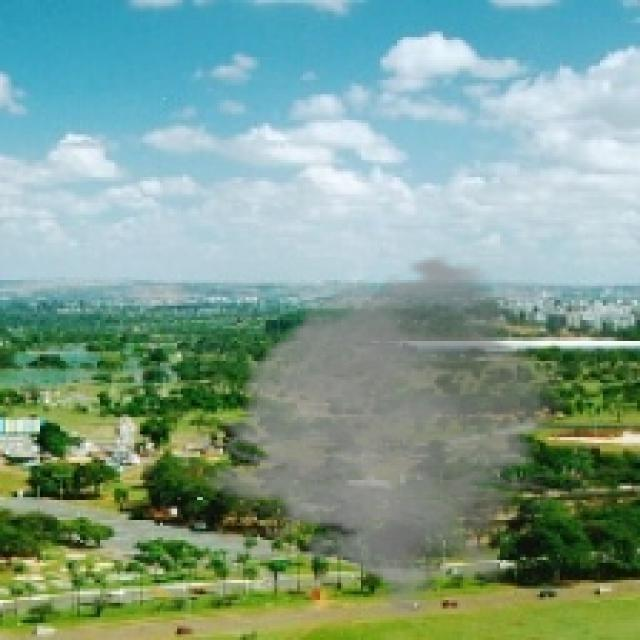Smoke: (188, 255, 600, 620)
